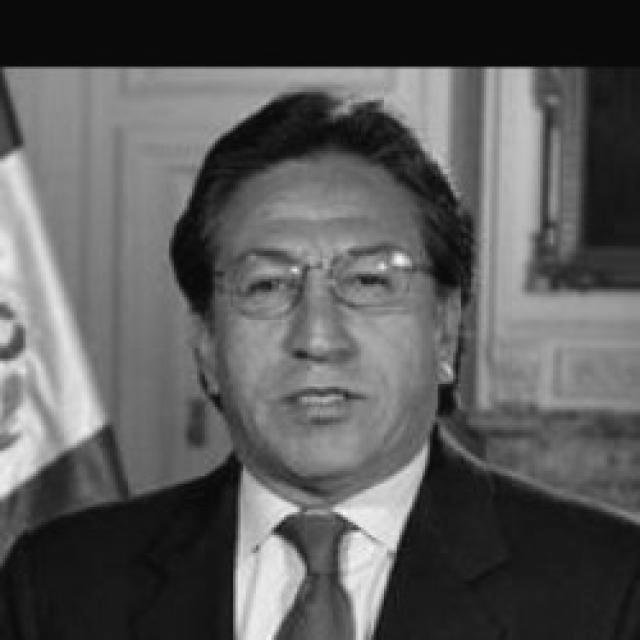real: (210, 155, 440, 478), (215, 252, 424, 315)
